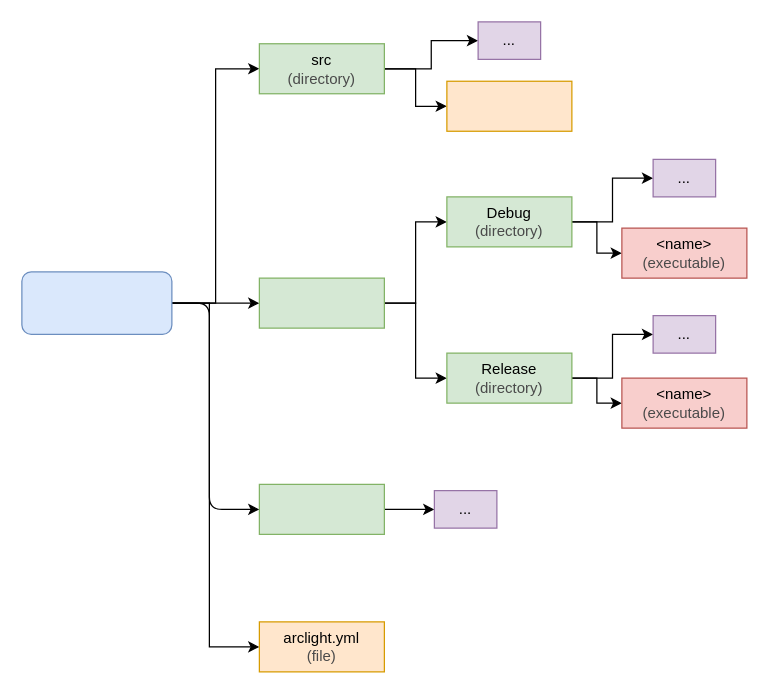
The diagram is 769 pixels wide and 694 high, and some of its shapes have lost their labels. Here are the shapes that lost their labels. From the top down, the centre of each, then its label:
[509,105]: main.arc (file)
[96,302]: main node (root directory)
[321,302]: . build (directory)
[321,508]: . lib (directory)
